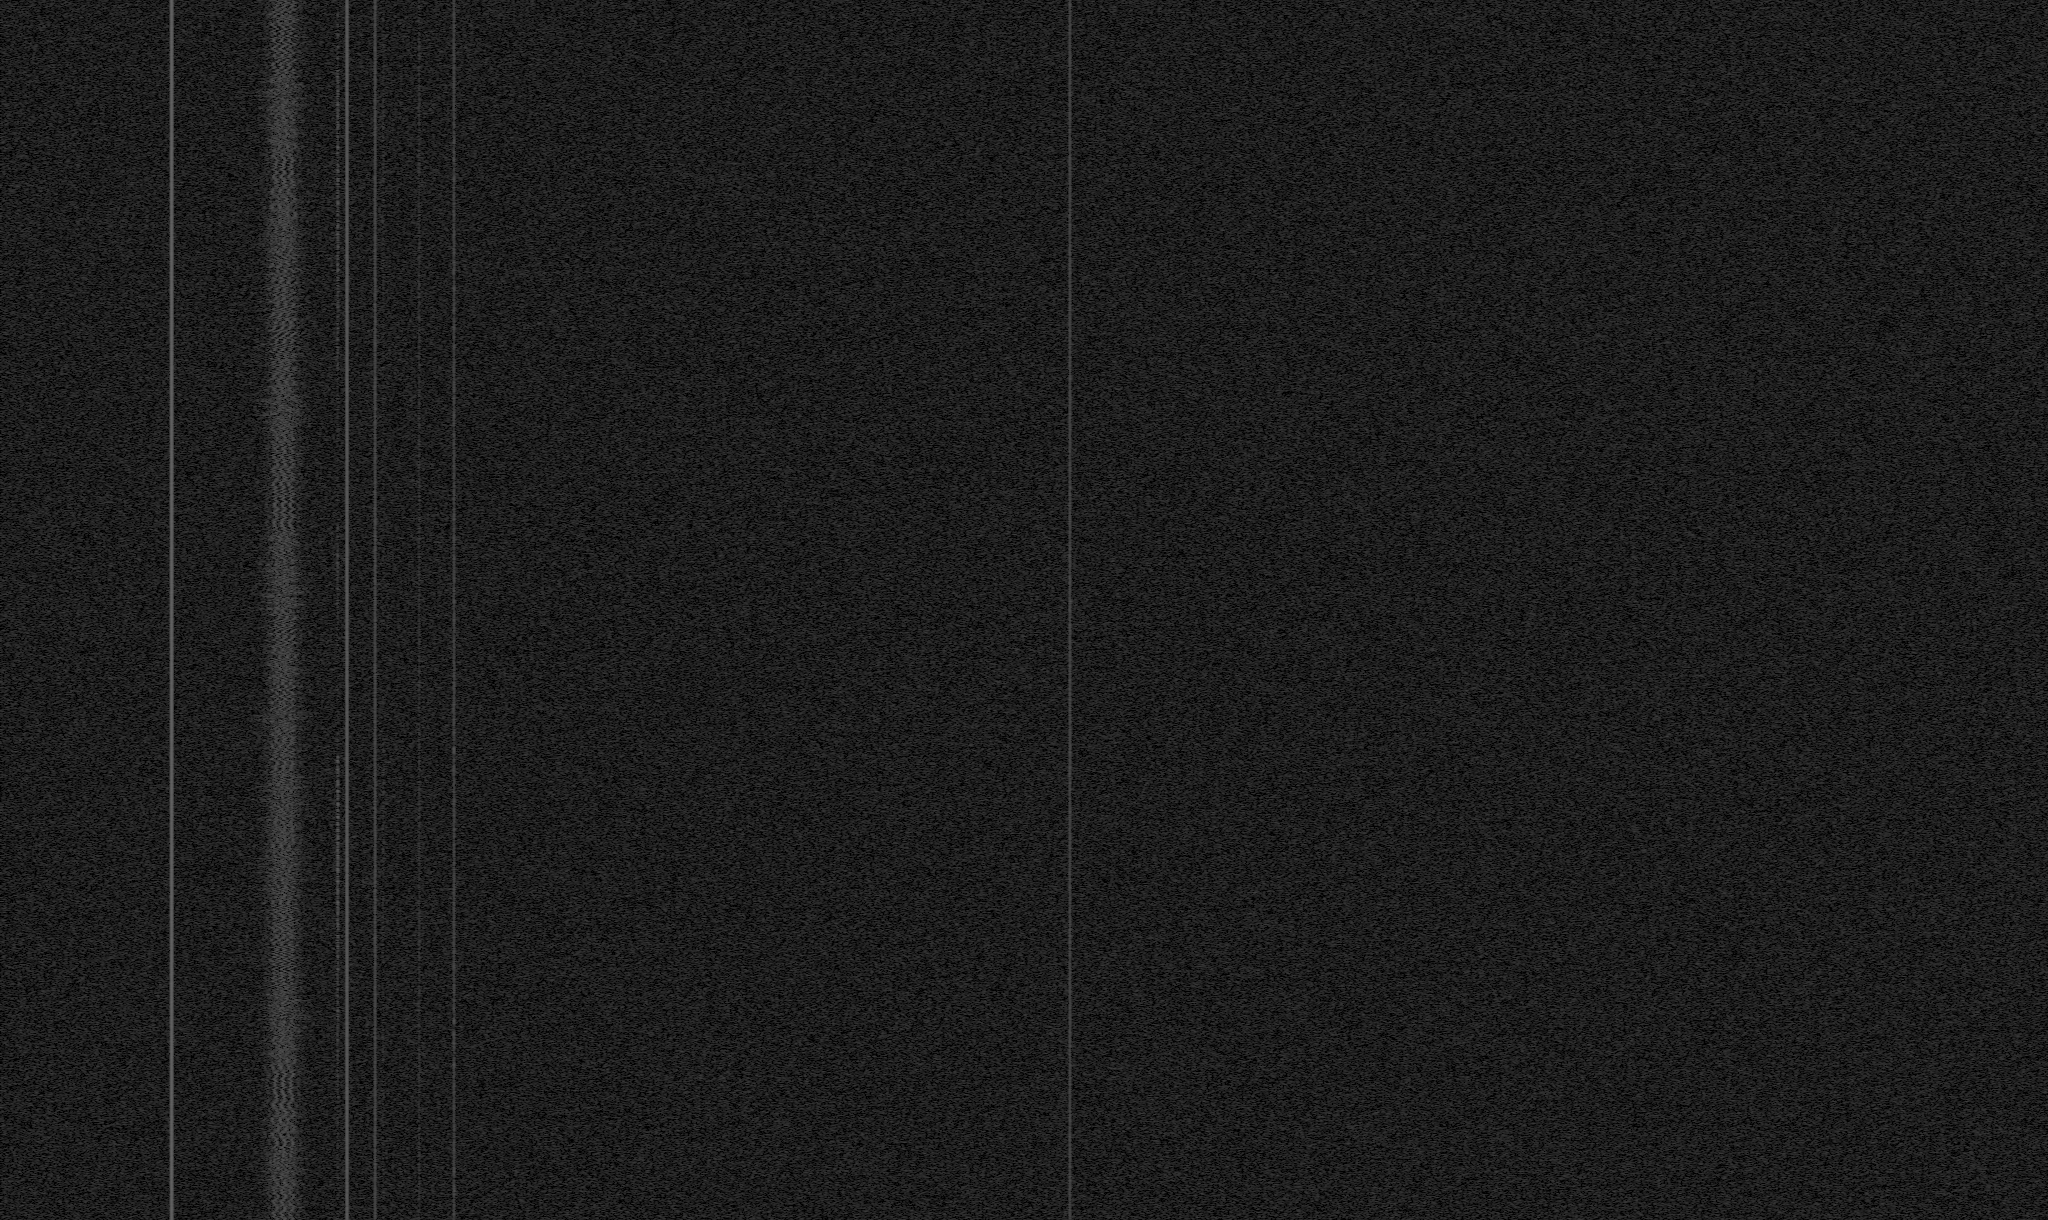wv_am: (1068, 0, 1073, 1220), (452, 0, 458, 1220), (417, 0, 423, 1220)
wv_cw: (168, 0, 174, 1220), (344, 0, 350, 1220), (373, 0, 378, 1220)
wv_lsb: (336, 22, 341, 378), (336, 754, 341, 993), (336, 993, 341, 1152), (336, 488, 340, 630), (336, 423, 340, 487), (336, 378, 340, 423), (336, 720, 340, 752), (336, 688, 340, 720), (336, 642, 340, 672), (336, 1195, 340, 1220), (336, 1153, 340, 1175), (336, 672, 340, 687), (336, 7, 340, 20), (336, 1182, 340, 1194), (336, 632, 340, 640), (336, 1176, 340, 1181)
wv_usb: (381, 778, 386, 876), (381, 877, 386, 967), (381, 989, 386, 1063), (381, 269, 386, 333), (381, 78, 386, 142), (381, 154, 386, 198), (381, 333, 386, 365), (381, 1065, 386, 1088), (381, 219, 386, 243), (381, 1110, 386, 1131), (381, 198, 386, 219), (381, 381, 386, 401), (381, 60, 386, 78), (381, 7, 386, 26), (381, 749, 386, 767), (381, 41, 386, 58), (381, 1184, 385, 1205), (381, 365, 386, 381), (381, 582, 385, 603), (381, 423, 385, 442), (381, 564, 386, 577), (381, 254, 386, 267), (381, 492, 385, 508), (381, 460, 385, 476), (381, 28, 386, 39), (381, 1162, 385, 1176), (381, 1131, 386, 1142), (381, 768, 386, 778), (381, 243, 386, 253), (381, 142, 386, 152), (381, 1097, 385, 1110), (381, 510, 385, 521), (381, 967, 385, 977), (381, 604, 385, 614), (381, 411, 385, 421), (382, 672, 385, 686), (381, 555, 385, 564), (381, 545, 385, 553), (381, 443, 385, 452), (381, 1143, 385, 1150), (381, 452, 385, 459), (381, 1176, 385, 1184), (382, 620, 385, 630), (381, 1089, 385, 1095), (382, 696, 385, 704), (381, 1216, 386, 1220), (381, 654, 385, 659), (381, 632, 385, 638), (381, 487, 386, 491), (381, 1155, 385, 1160), (382, 742, 385, 749), (381, 983, 385, 988), (381, 977, 385, 982), (381, 524, 385, 529), (381, 476, 385, 481), (381, 402, 385, 407), (381, 1150, 385, 1155), (382, 735, 385, 741), (382, 667, 385, 672), (382, 648, 385, 654), (381, 1210, 386, 1213), (382, 638, 385, 642), (381, 616, 385, 619), (382, 533, 385, 537), (382, 482, 385, 487), (382, 731, 385, 733), (382, 720, 385, 723), (382, 659, 385, 662), (382, 643, 385, 646), (382, 577, 385, 579)
wv_wbfm: (244, 0, 325, 1220)
